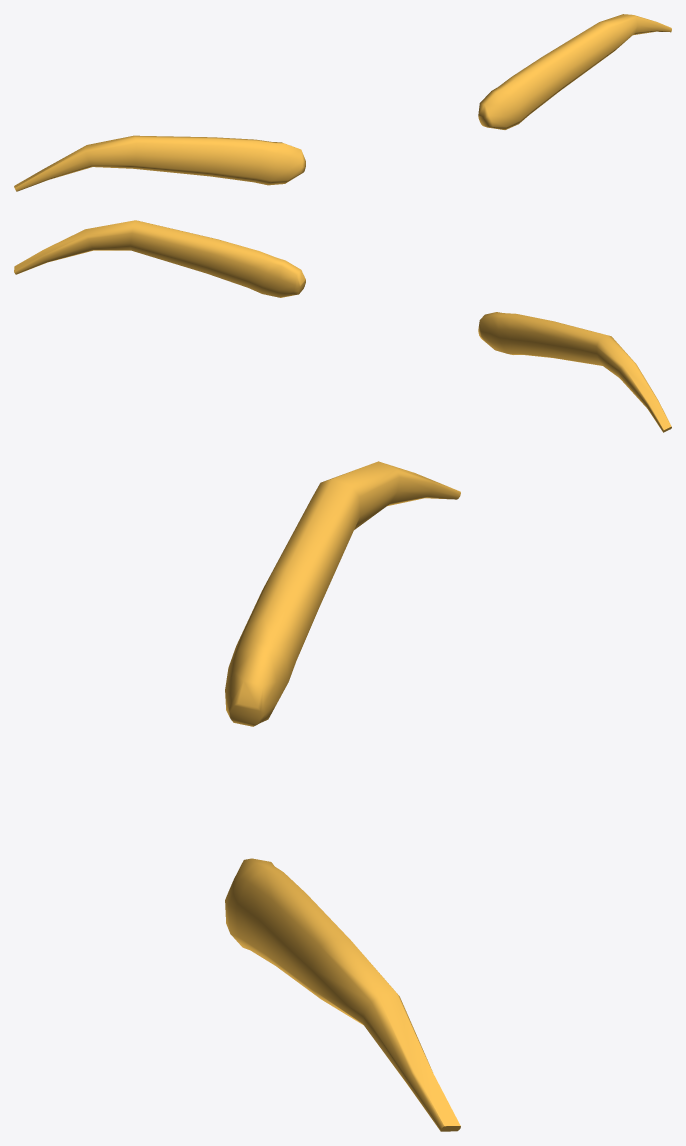
File: Eyebrows_14_05.fbx
3 renders of one model, top to bottom at view 1: azimuth 30°, elevation 25°; view 2: azimuth 150°, elevation 25°; view 3: azimuth 270°, elevation 25°, orthographic. The views are drawn at different scales.
Visible parts, largest first — view 1: Eyebrows_14_05; view 2: Eyebrows_14_05; view 3: Eyebrows_14_05.
Part boxes in pixels (x1,y1,x2,y2): Eyebrows_14_05: (14,14,671,191); Eyebrows_14_05: (14,220,671,432); Eyebrows_14_05: (225,461,460,1131).
Bounding box in the file's own units: 19.11 × 1.7 × 2.97.
